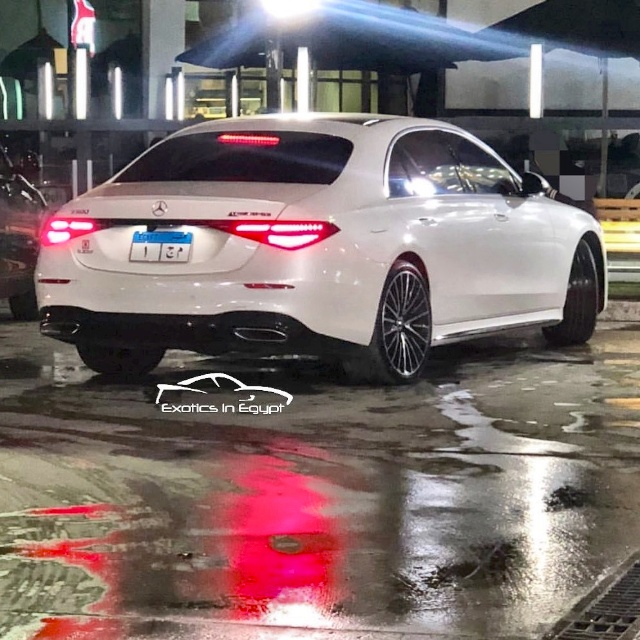License Plate: (127, 229, 194, 267)
